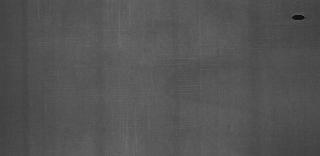punching hole: (290, 13, 306, 21)
